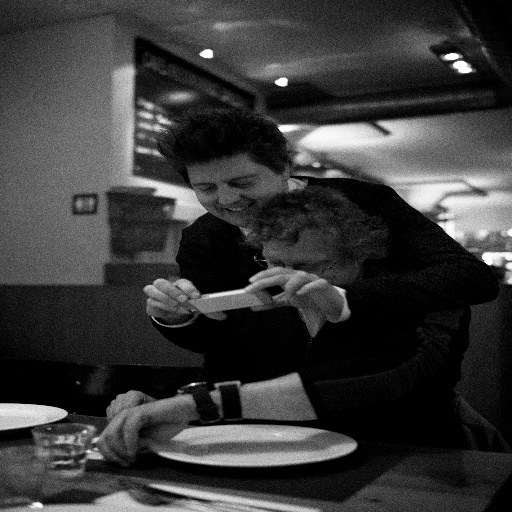hand: (85, 393, 215, 461), (241, 265, 340, 317), (143, 277, 228, 322), (103, 388, 157, 423)
